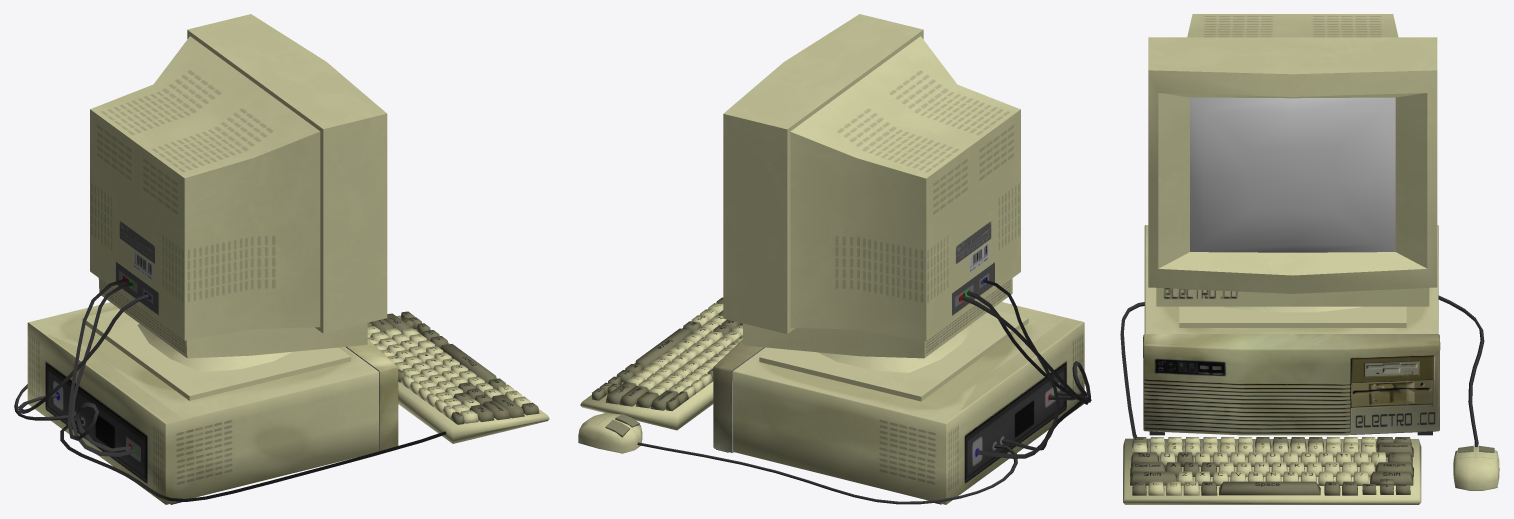
File: OldPC.fbx
3 renders of one model, left to right at view 1: azimuth 30°, elevation 25°; view 2: azimuth 150°, elevation 25°; view 3: azimuth 270°, elevation 25°, orthographic. The views are drawn at different scales.
Visible parts, largest first — view 1: KeyBoard_002.005; view 2: KeyBoard_002.005; view 3: KeyBoard_002.005.
Part boxes in pixels (left/top/right/bottom): KeyBoard_002.005: left=14, top=14, right=549, bottom=504; KeyBoard_002.005: left=578, top=14, right=1091, bottom=504; KeyBoard_002.005: left=1120, top=14, right=1499, bottom=504.
Size of the model in its own units: 74.59 by 56.72 by 54.09.
